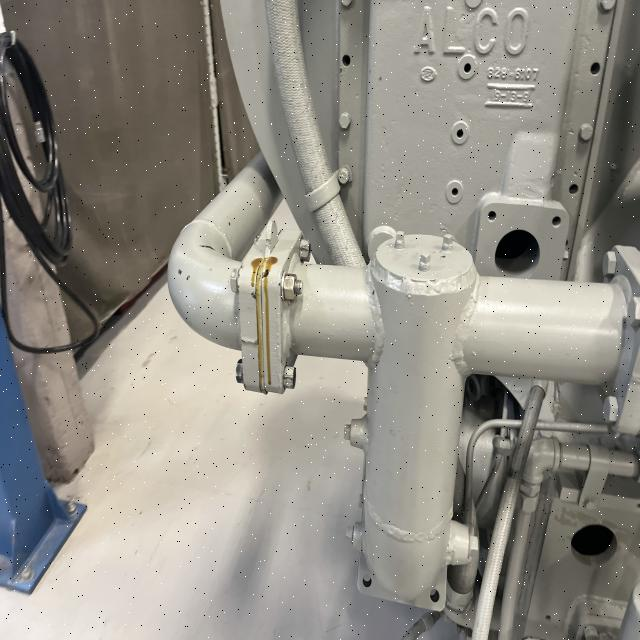Oil Leak: (251, 257, 277, 394)
